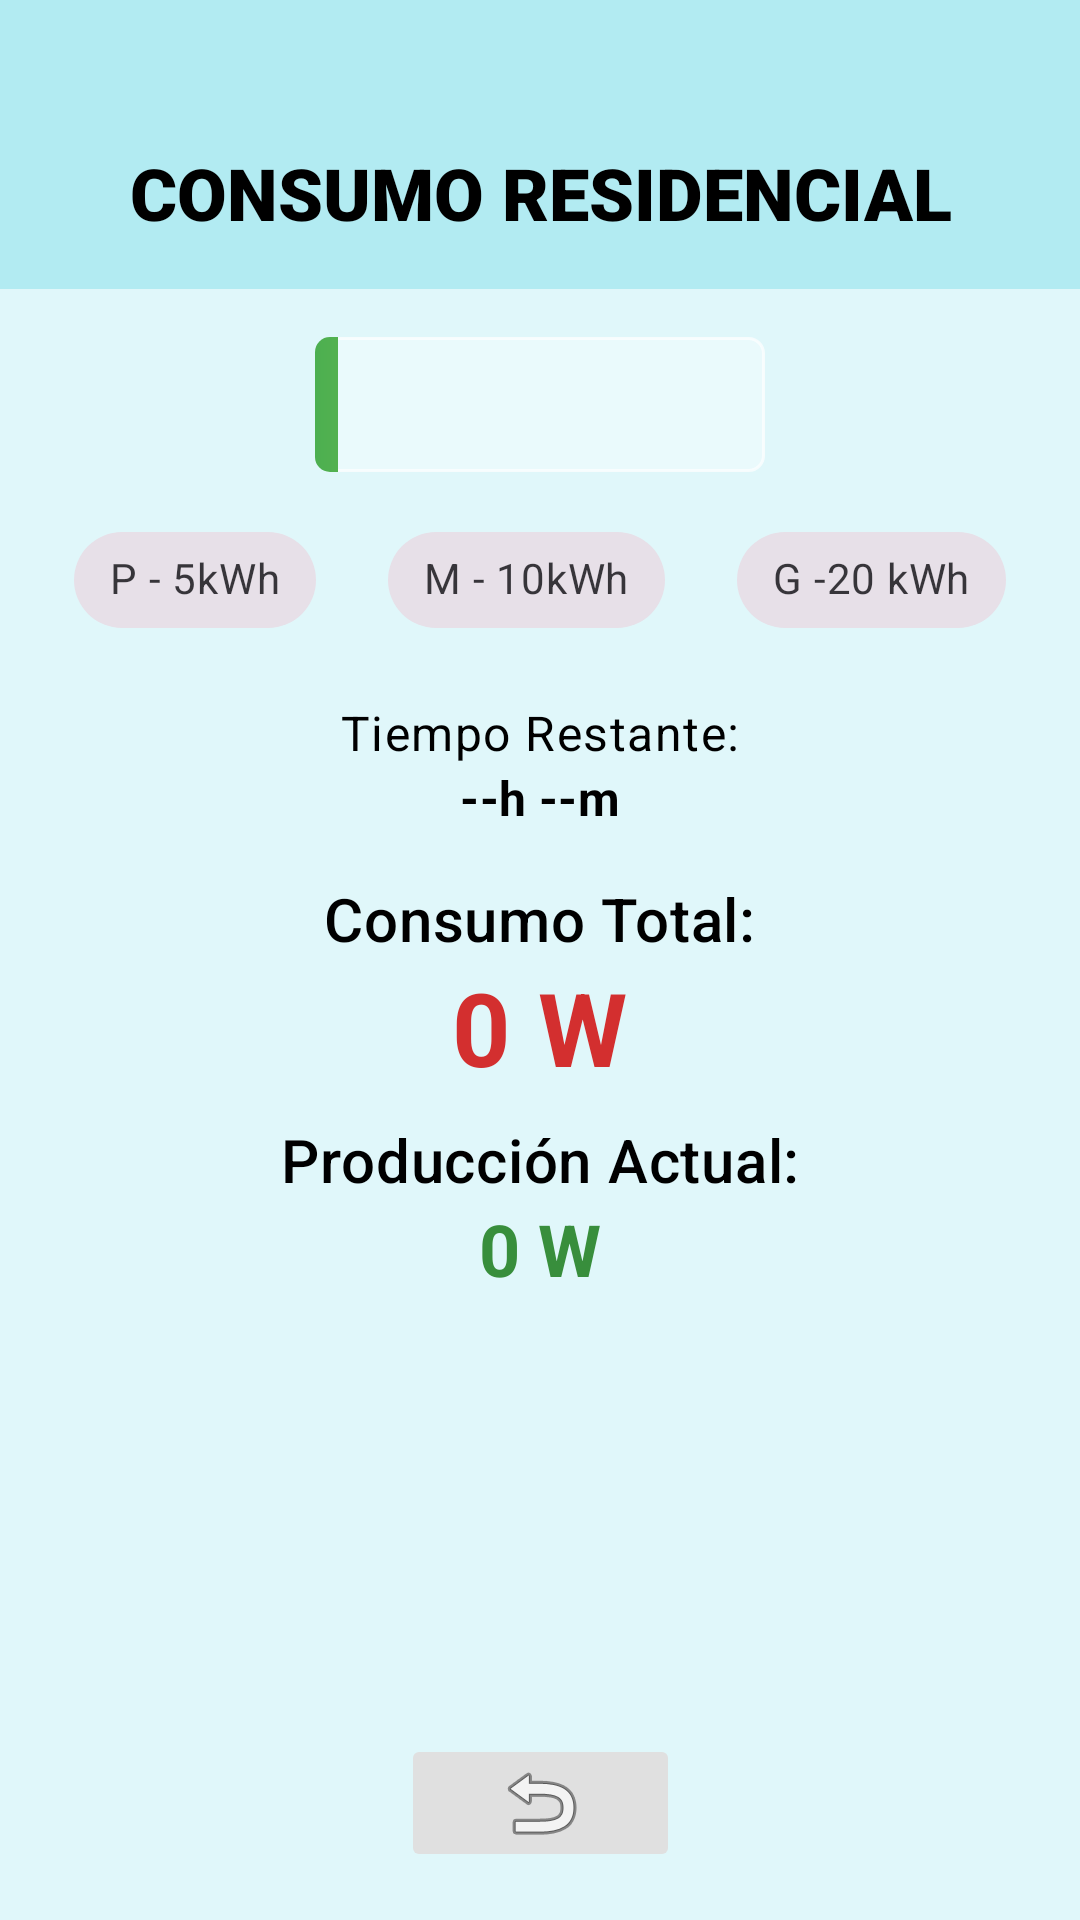

Locate icon controls on the screen. Image size 1080×1920, boxes as (x1, y1, x2, y2).
revert: (413, 1752, 668, 1854)
